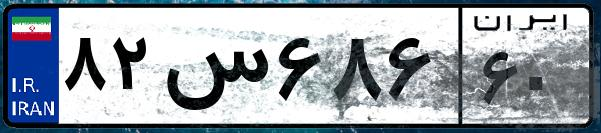0: (525, 38, 570, 115)
2: (110, 28, 158, 98)
6: (270, 28, 330, 110), (385, 28, 445, 110), (475, 38, 525, 113)
8: (330, 28, 385, 110), (57, 26, 110, 100)
س: (158, 20, 270, 120)
